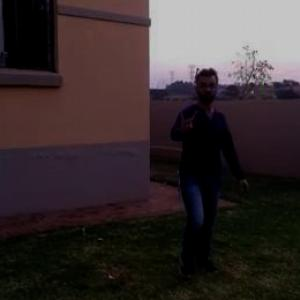takeoff-hand: (172, 102, 201, 140)
